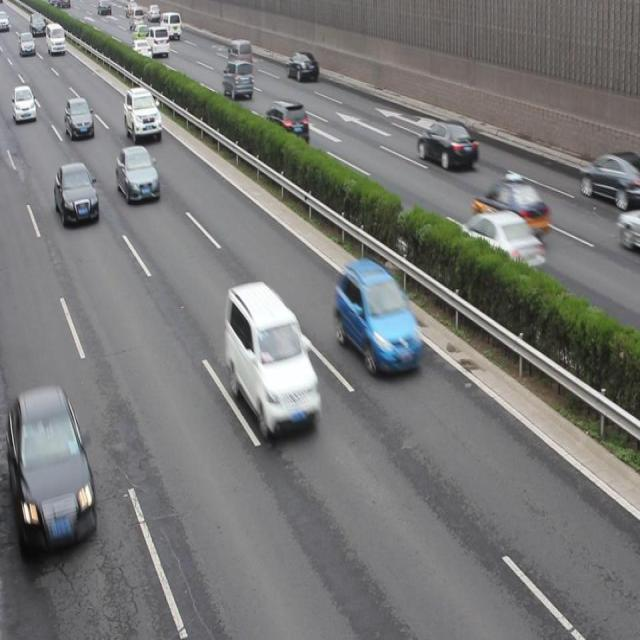car: (1, 389, 97, 564), (224, 281, 320, 432), (338, 263, 422, 375), (474, 174, 550, 240), (459, 215, 544, 274), (579, 152, 640, 206), (418, 118, 478, 168), (54, 164, 99, 222), (116, 146, 161, 204), (264, 100, 311, 145), (123, 90, 163, 142), (65, 97, 95, 139), (224, 59, 254, 97), (13, 86, 38, 125), (287, 51, 318, 82), (146, 27, 170, 54), (132, 41, 152, 61), (133, 24, 149, 44)
truck: (228, 40, 253, 69), (161, 13, 182, 36)
